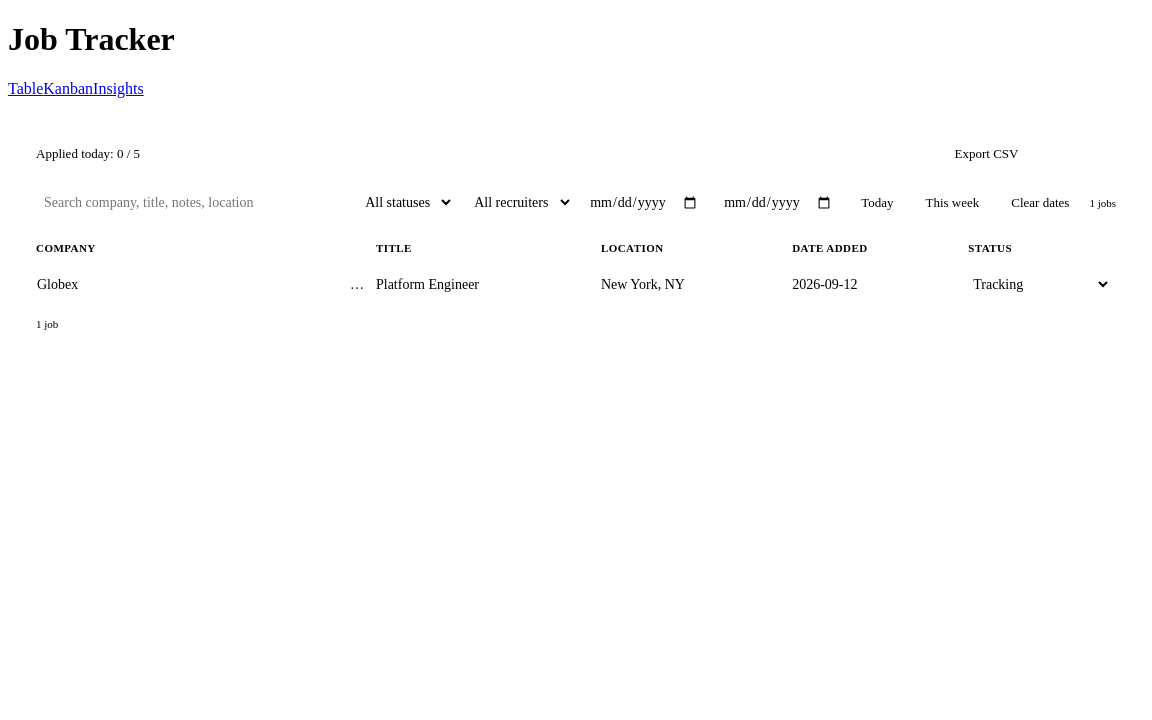
Test: the ways out of the drawer › closes on the close button
The image size is (1152, 720).
Click the text "Platform Engineer" at (428, 286), box top-left (376, 274), bottom-right (479, 297)
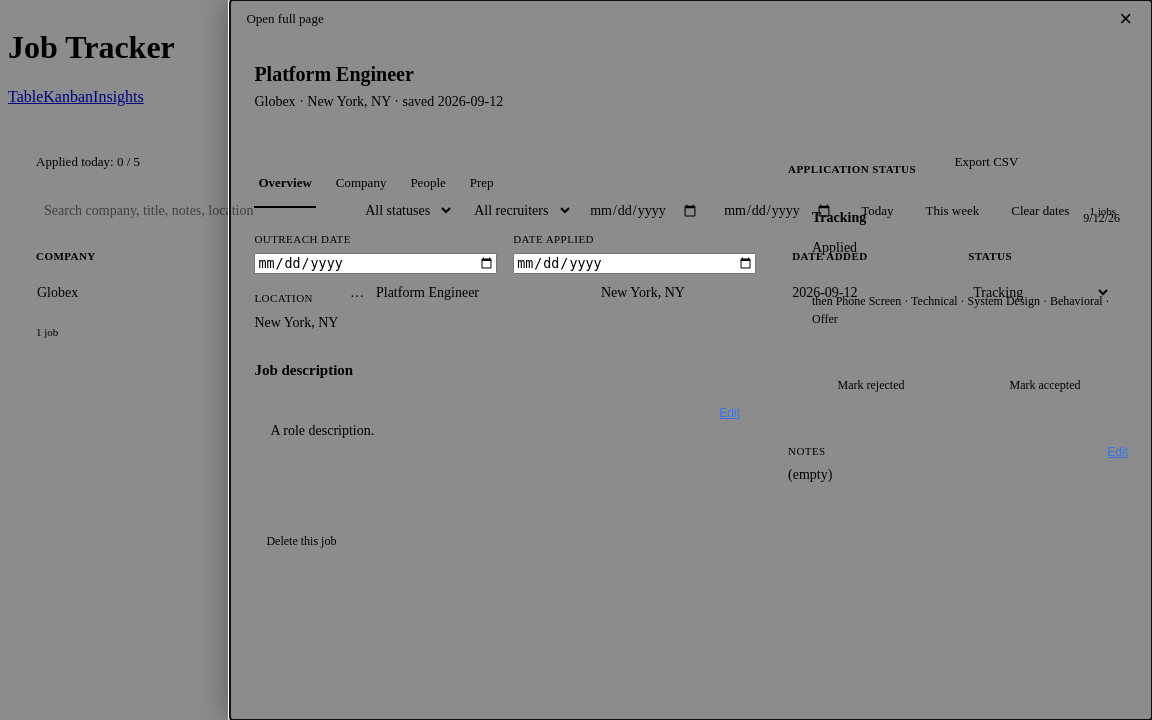
Click the button named "Close" at (1126, 19), box top-left (1111, 8), bottom-right (1140, 30)
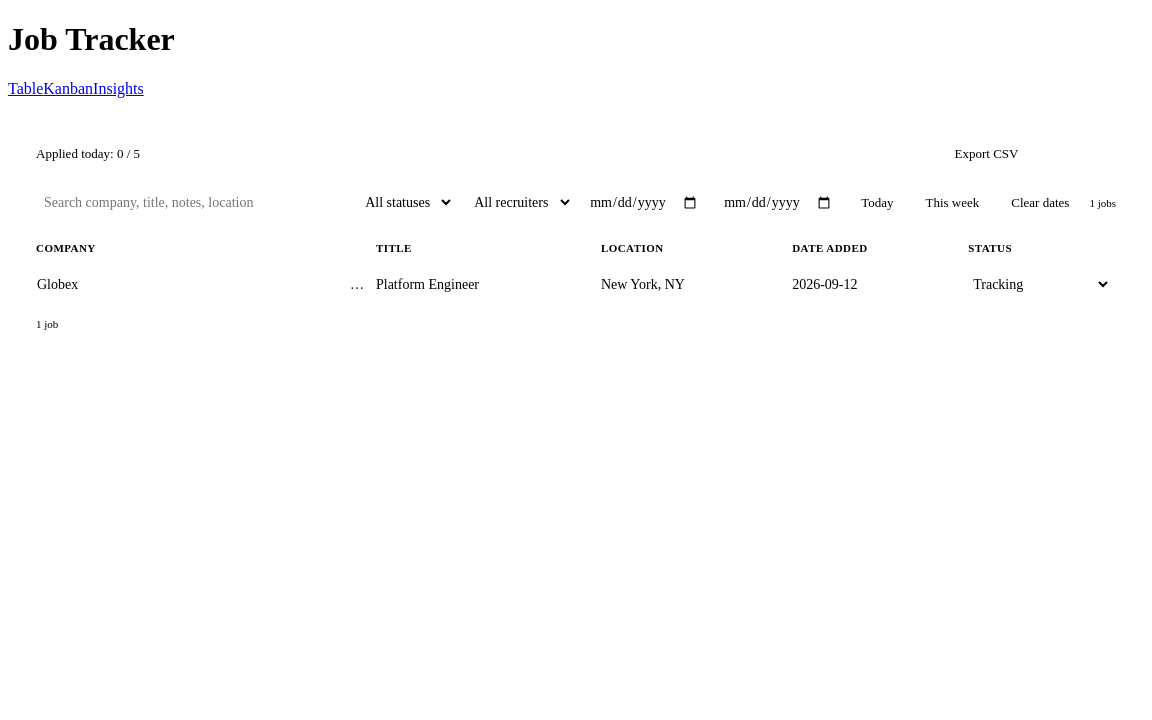
Expected: the dialog is gone
